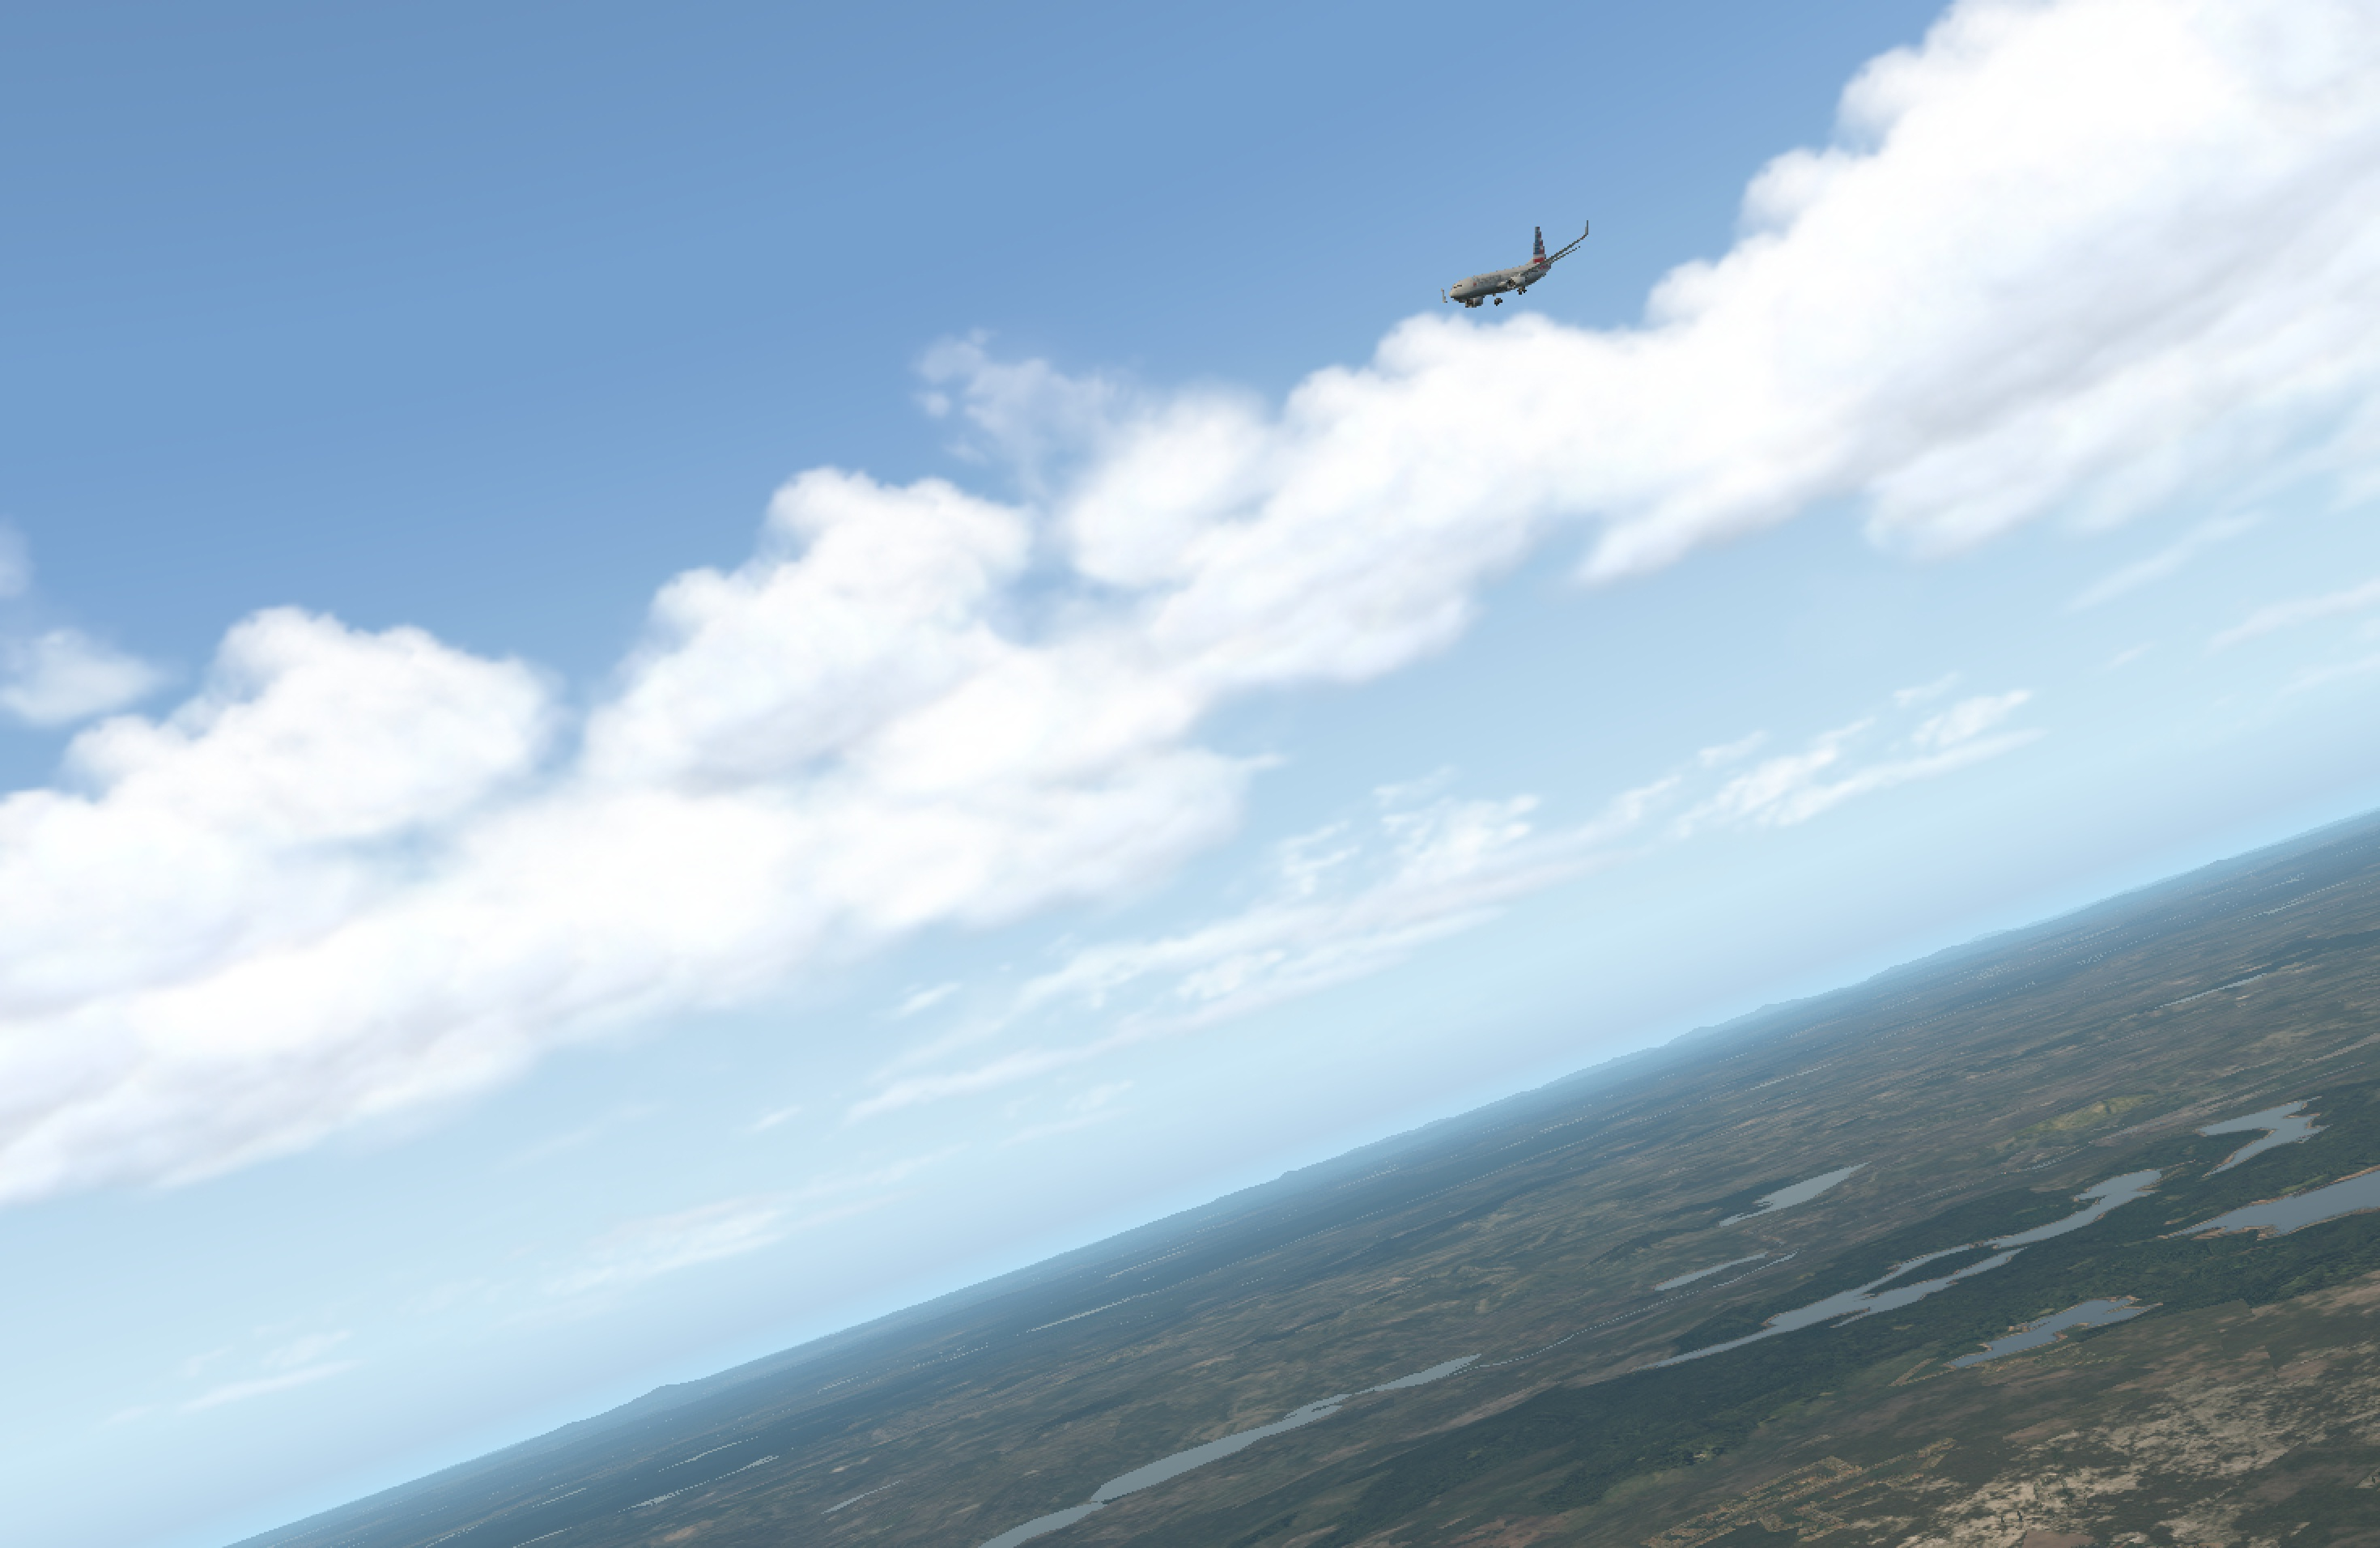aircraft: (1402, 248, 1601, 321)
